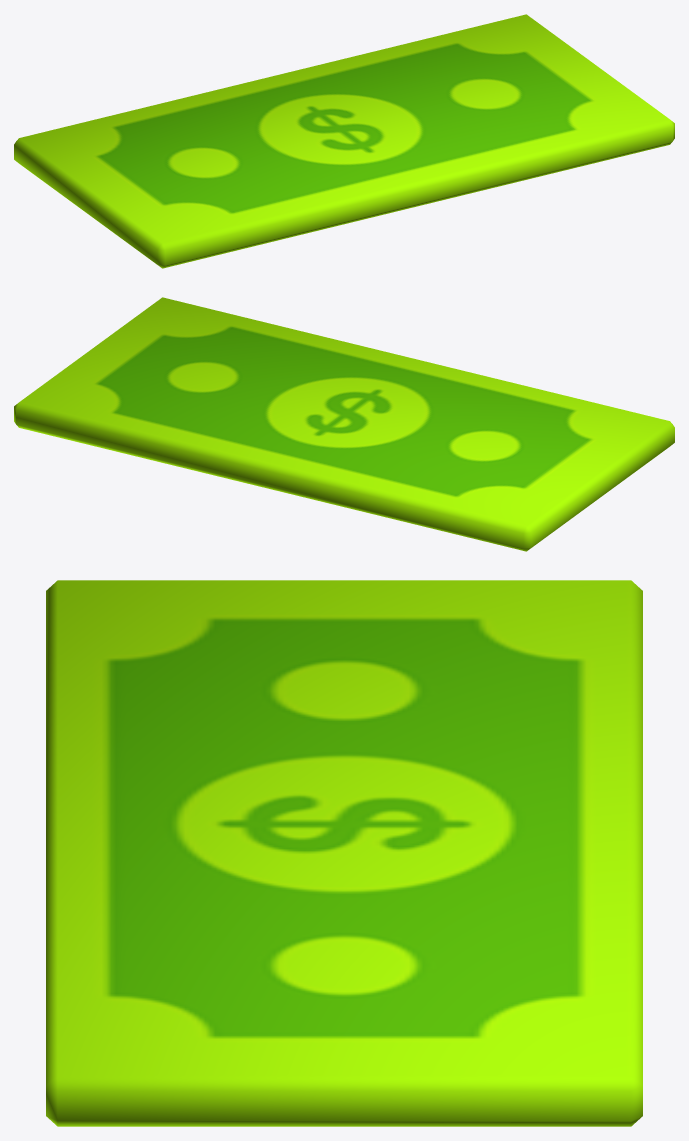
Rendered from Money.glb.
3 renders of one model, top to bottom at view 1: azimuth 30°, elevation 25°; view 2: azimuth 150°, elevation 25°; view 3: azimuth 270°, elevation 25°, orthographic. The views are drawn at different scales.
Visible parts, largest first — view 1: Collectable_Money_02; view 2: Collectable_Money_02; view 3: Collectable_Money_02.
Part boxes in pixels (<box>): Collectable_Money_02: <box>14,14,674,268</box>; Collectable_Money_02: <box>14,297,674,551</box>; Collectable_Money_02: <box>46,580,642,1126</box>.
Bounding box in the file's own units: 0.564 × 0.0266 × 0.2817.
1 material, 1 textured.
